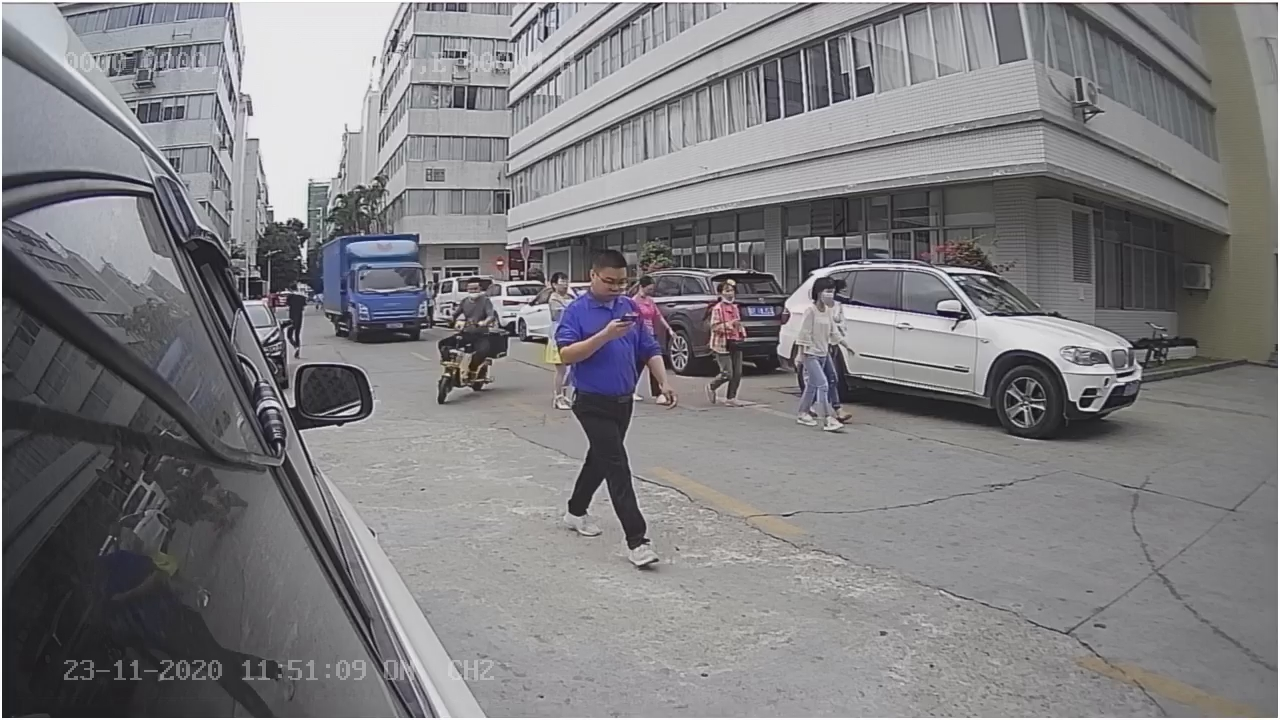person: (555, 241, 667, 571), (701, 268, 762, 412), (446, 271, 498, 329)
